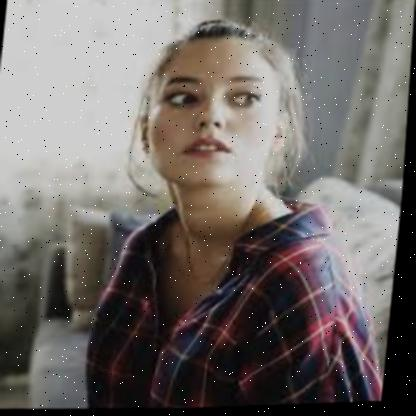person: (121, 16, 304, 202)
